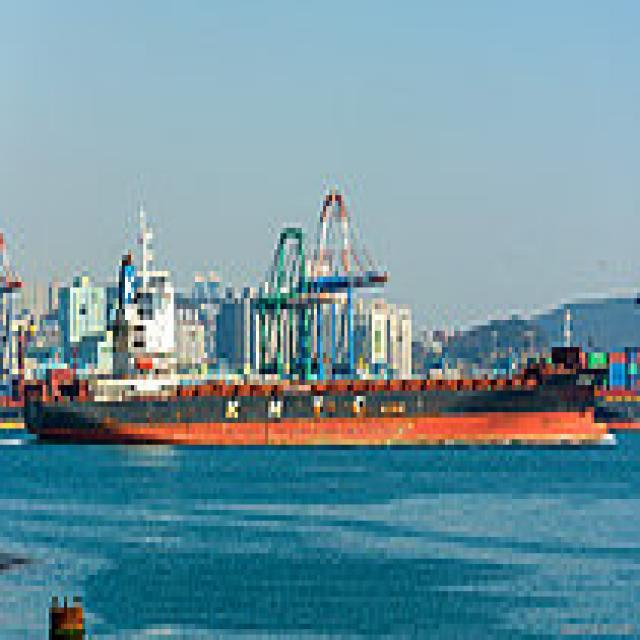Ship: (19, 245, 620, 462)
